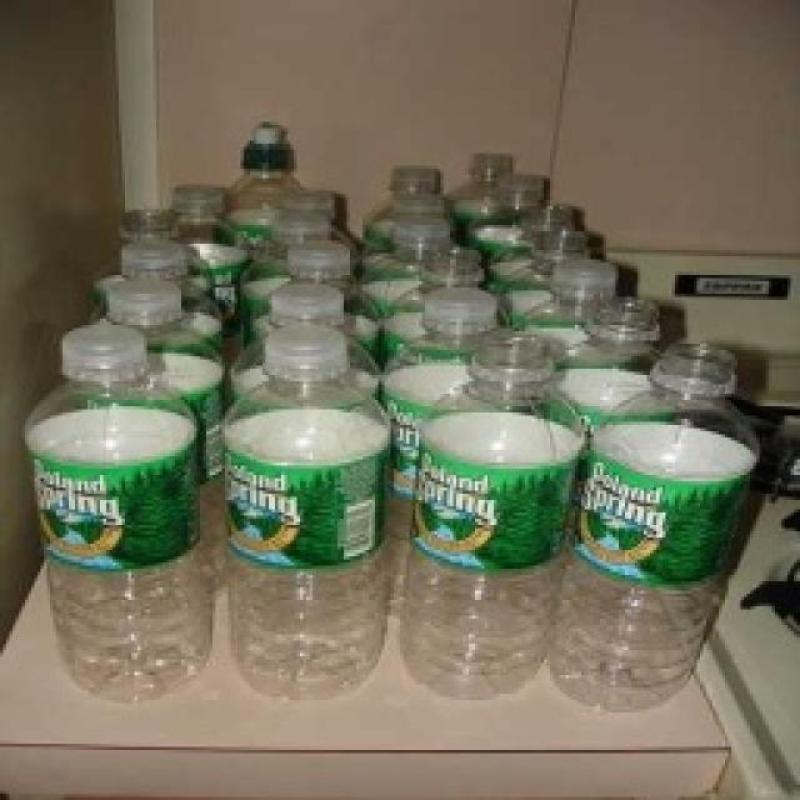botella: (551, 345, 761, 717), (400, 319, 585, 700), (212, 322, 397, 703), (27, 323, 212, 704), (380, 290, 520, 612), (87, 280, 228, 598), (231, 283, 381, 405), (540, 304, 684, 408), (255, 238, 380, 343), (91, 236, 232, 320), (161, 187, 240, 325), (209, 114, 300, 230), (494, 230, 616, 299), (381, 244, 497, 316), (362, 160, 456, 234), (467, 174, 561, 248), (350, 216, 466, 272), (249, 191, 353, 253), (494, 199, 594, 261), (520, 266, 640, 316), (443, 145, 518, 207), (102, 202, 183, 233)
